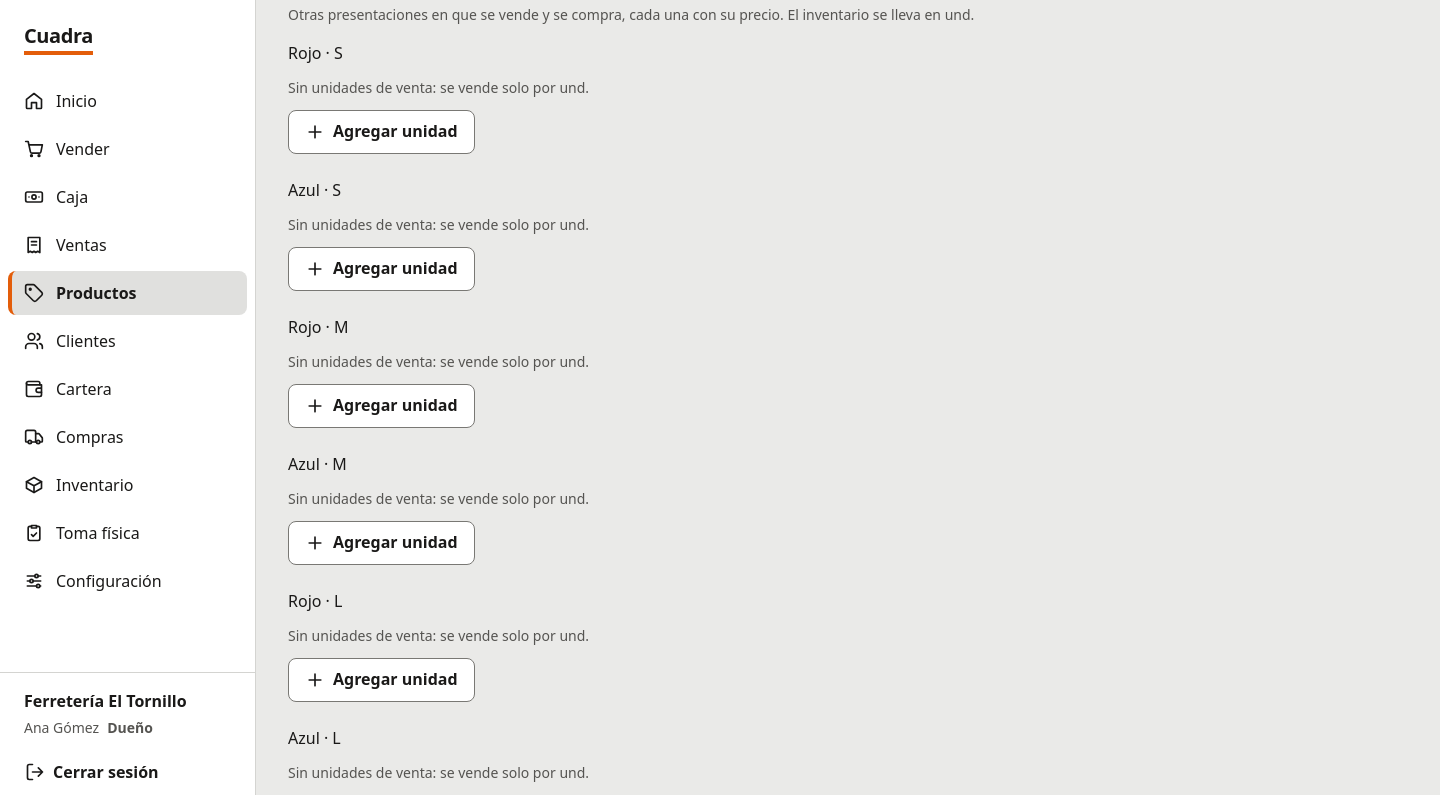
Test: ProductFormPage: unidades de venta › con variantes, agrega la unidad a la variante elegida (paquete de una talla y color)
This screenshot has width=1440, height=795.
(page scrolled)
Click the button with aria-label "Agregar unidad a Rojo · M".
click(381, 406)  # box x1=288 y1=384 x2=475 y2=428
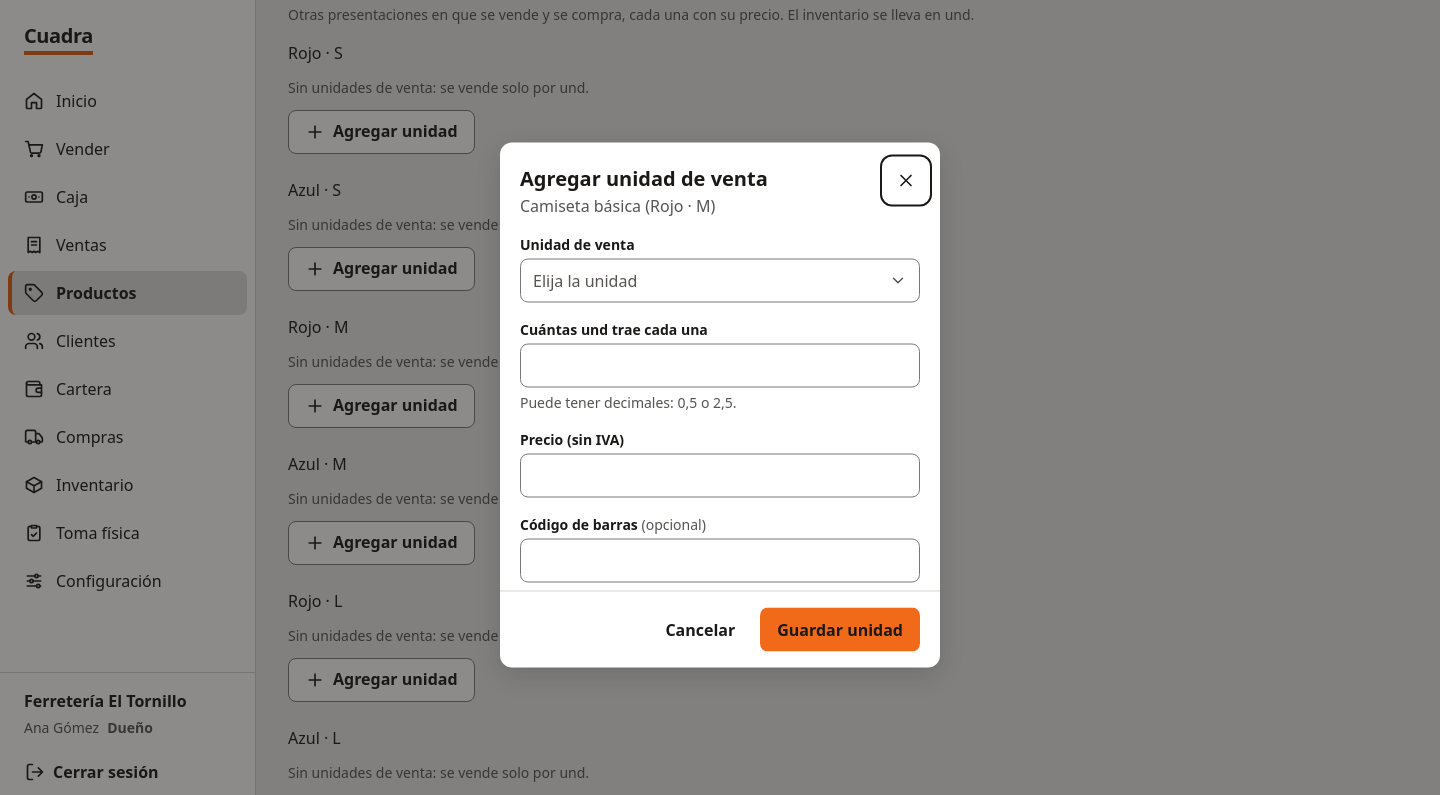
expect the text "Camiseta básica (Rojo · M)" is shown: met, box x1=520 y1=194 x2=715 y2=216
Click the dropdown named "Unidad de venta".
click(585, 280)  # box x1=520 y1=258 x2=920 y2=302
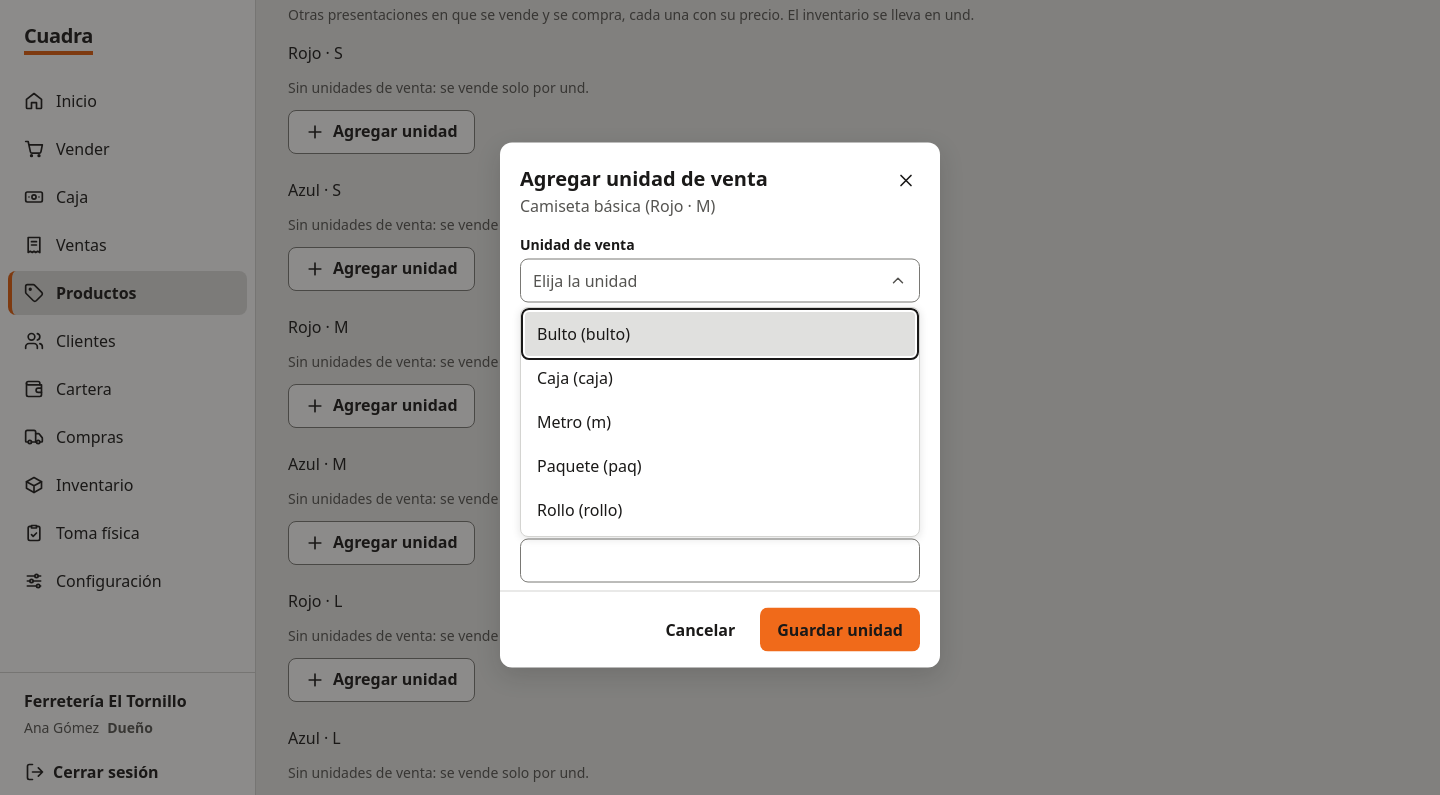
Click the option "Paquete (paq)".
click(589, 466)  # box x1=537 y1=455 x2=642 y2=477
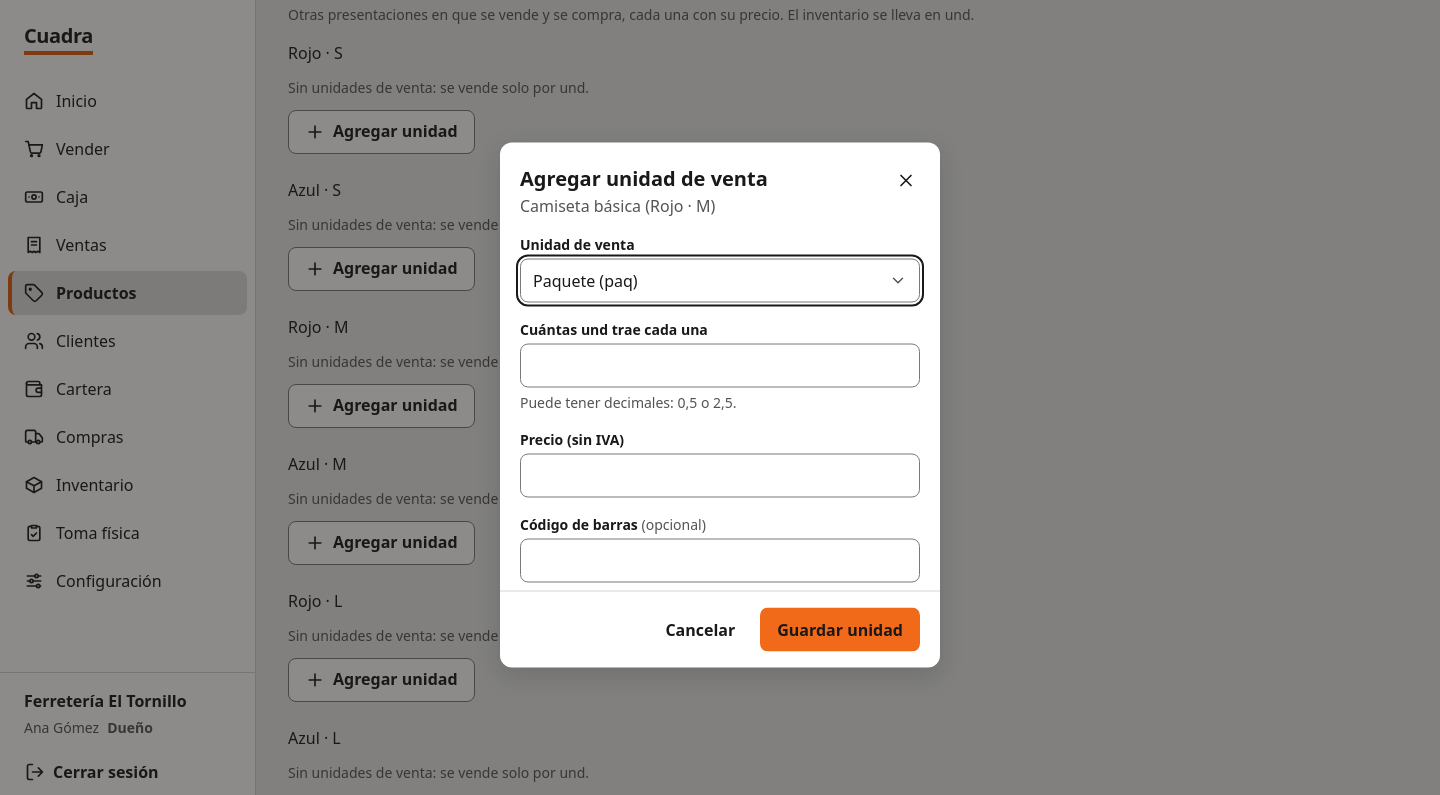
Type "3" into the field labelled "Cuántas und trae cada una".
click(720, 366); type("3")  # box x1=520 y1=344 x2=920 y2=388
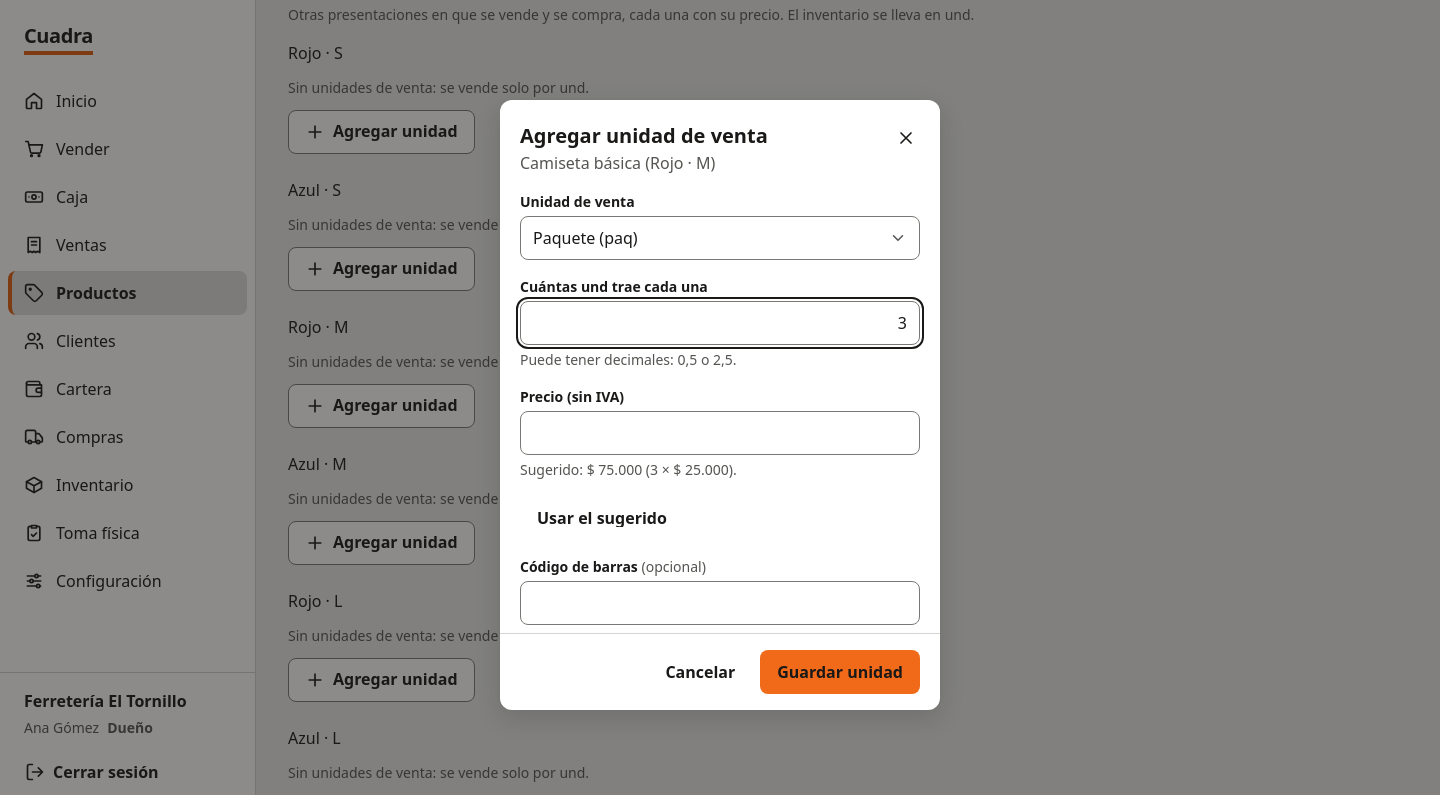
Type "70000" into the field labelled "Precio (sin IVA)".
click(720, 433); type("70000")  # box x1=520 y1=411 x2=920 y2=455
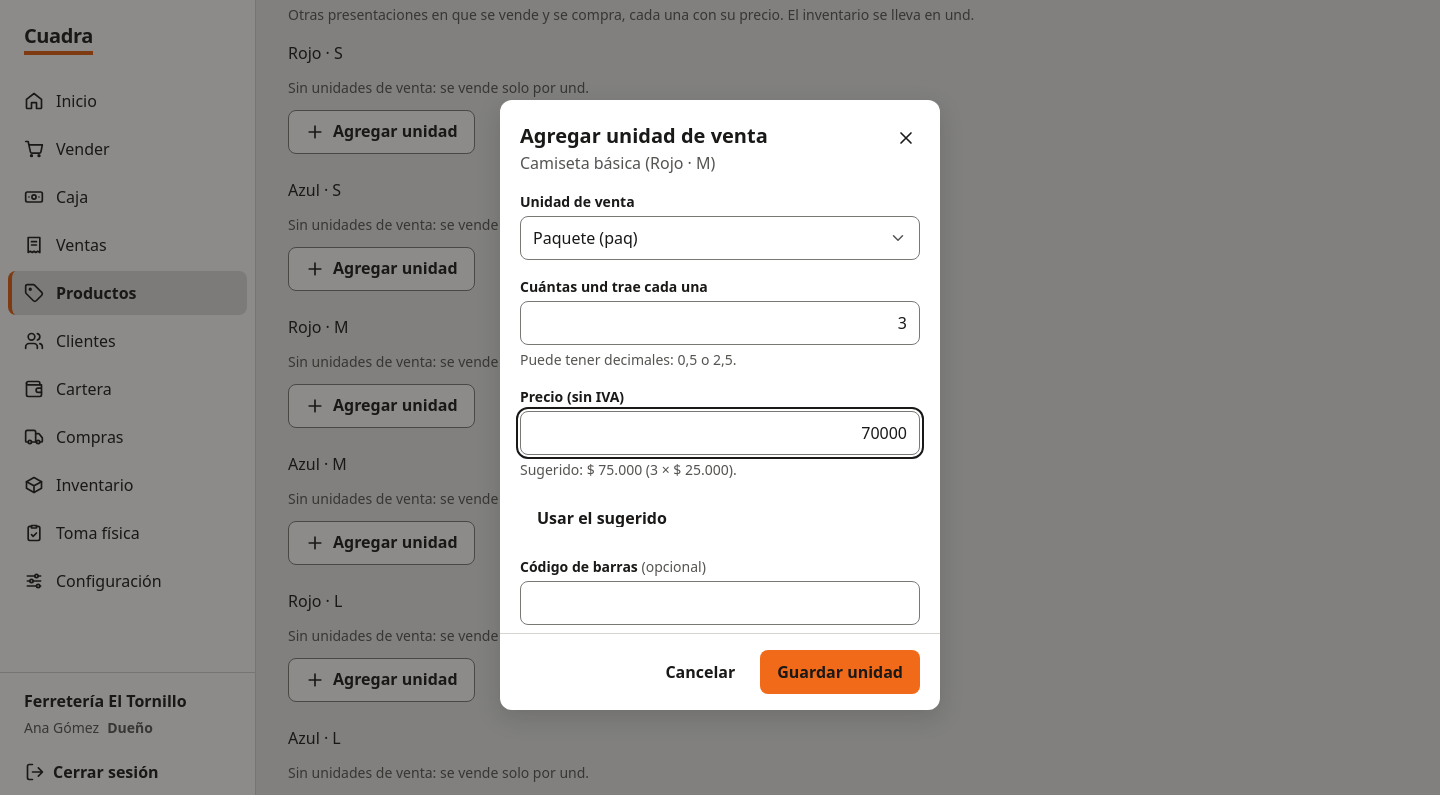
Click the button "Guardar unidad".
click(840, 672)  # box x1=760 y1=650 x2=920 y2=694
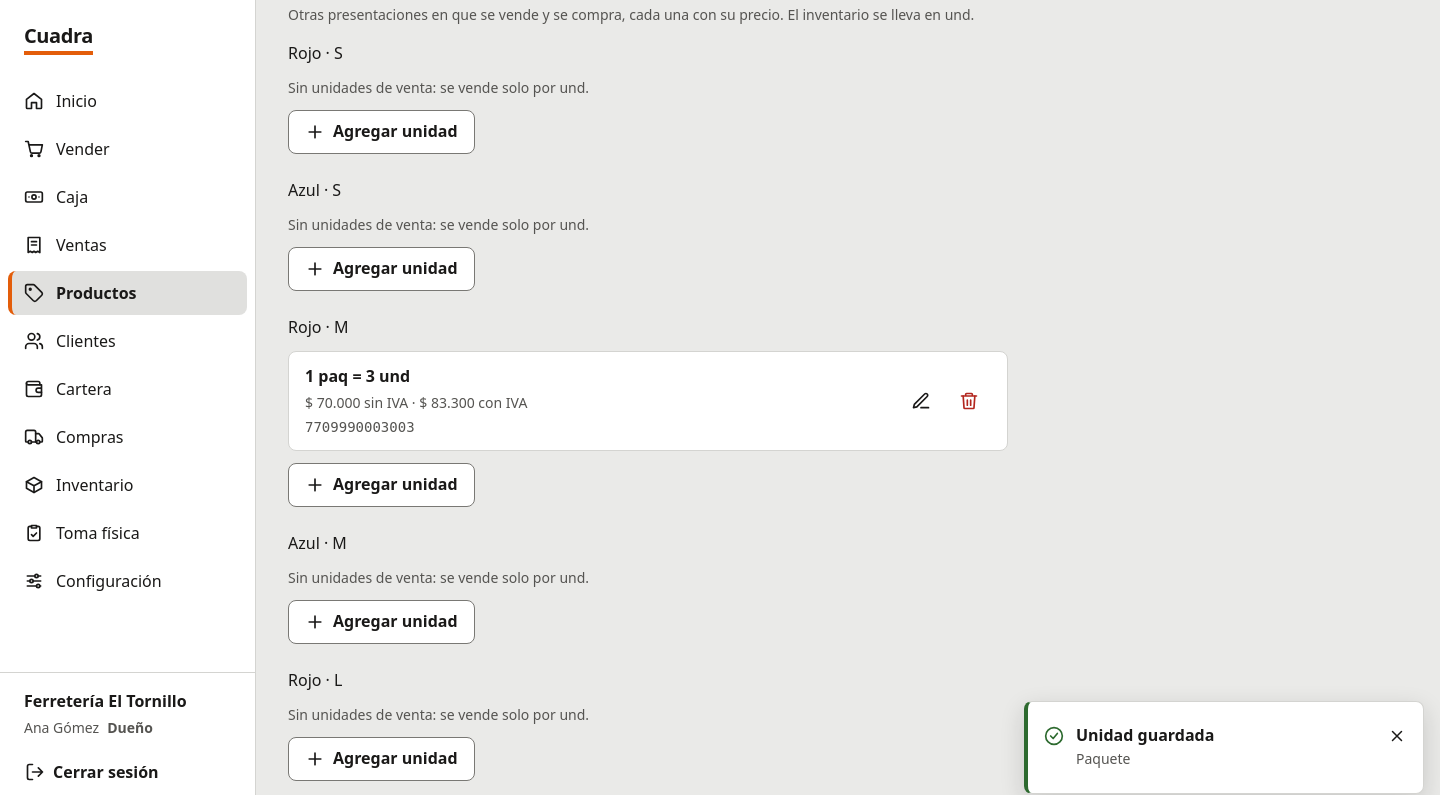
expect the text "1 paq = 3 und" is shown: met, box x1=305 y1=364 x2=410 y2=386
